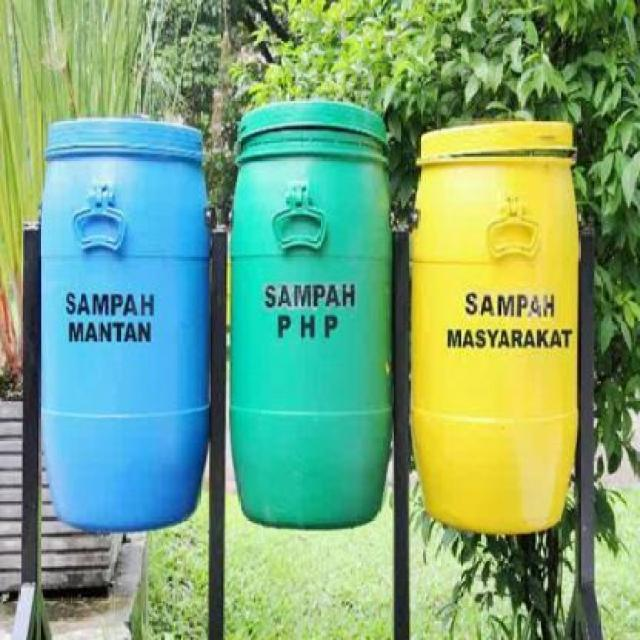garbage container: (225, 89, 406, 560), (35, 113, 217, 550), (404, 108, 584, 545)
